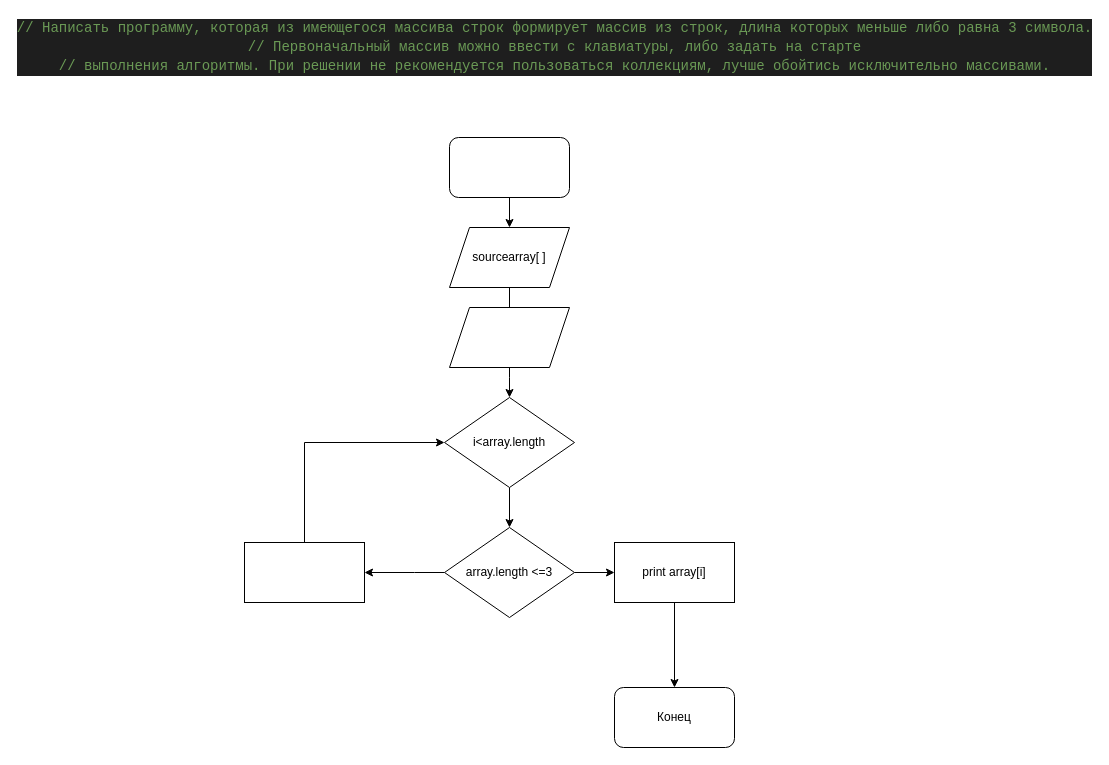
The diagram is 1109 pixels wide and 765 high, and some of its shapes have lost their labels. Here are the shapes that lost their labels. From the top down, the centre of each, then its label:
At point (509, 167): "Начало".
At point (509, 337): "i = 0".
At point (304, 572): "i++".
